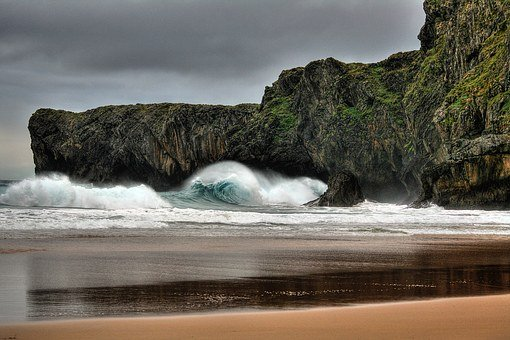mountain: (66, 15, 509, 192)
sea: (3, 184, 504, 340)
